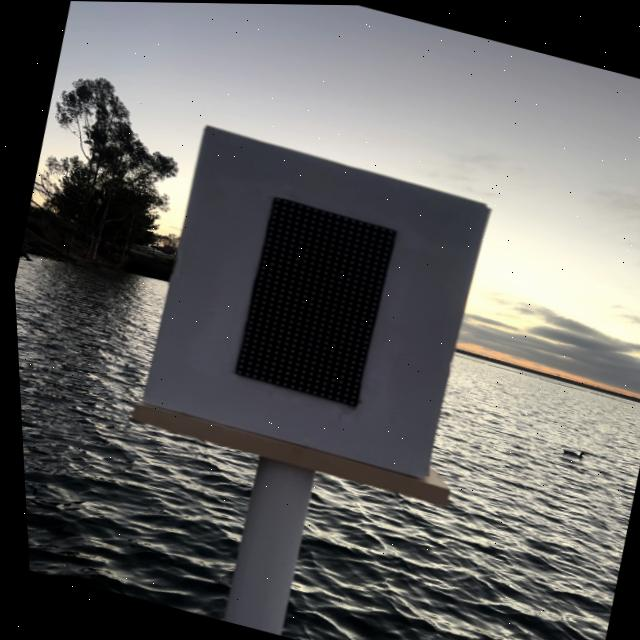led: (199, 173, 459, 433)
